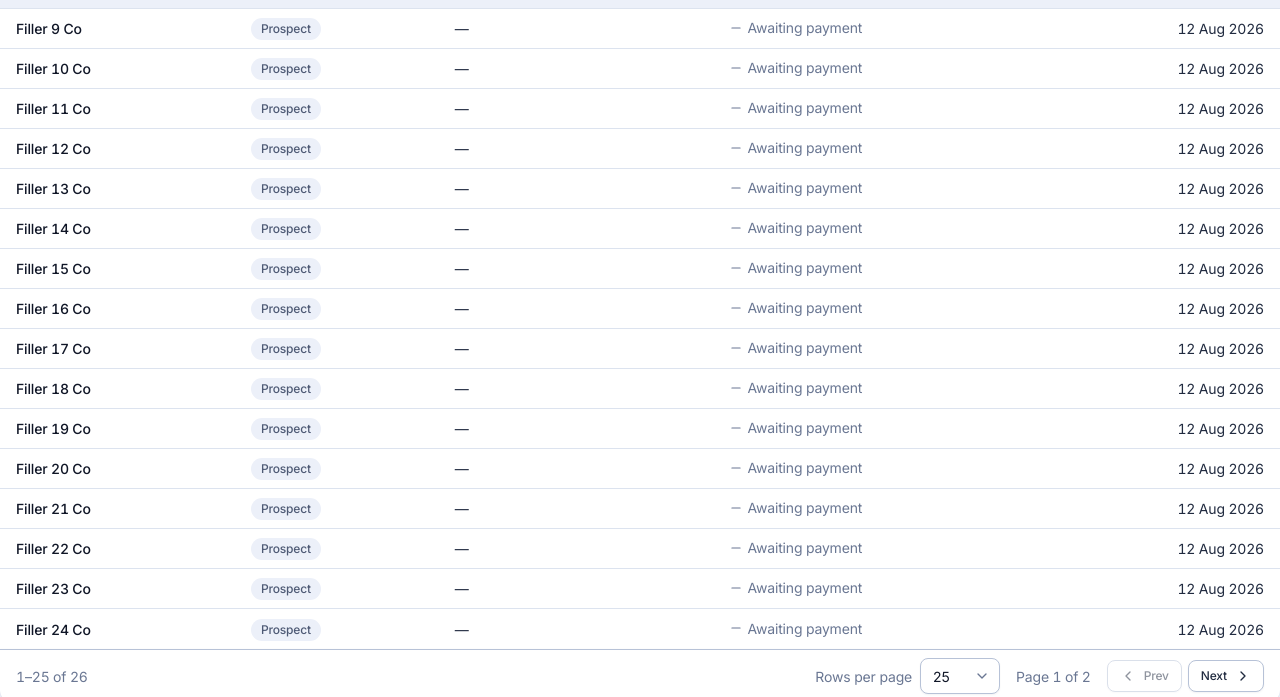
clients list › walks pages with Next/Prev using the returned cursor
(page scrolled)
expect the text "1–25 of 26" is shown: met, box [16,666,88,686]
expect the button with aria-label "Previous page" is disabled: met, box [1107,660,1182,692]
Click the button with aria-label "Next page" at (1226, 676), box [1188,660,1264,692]
(page scrolled)
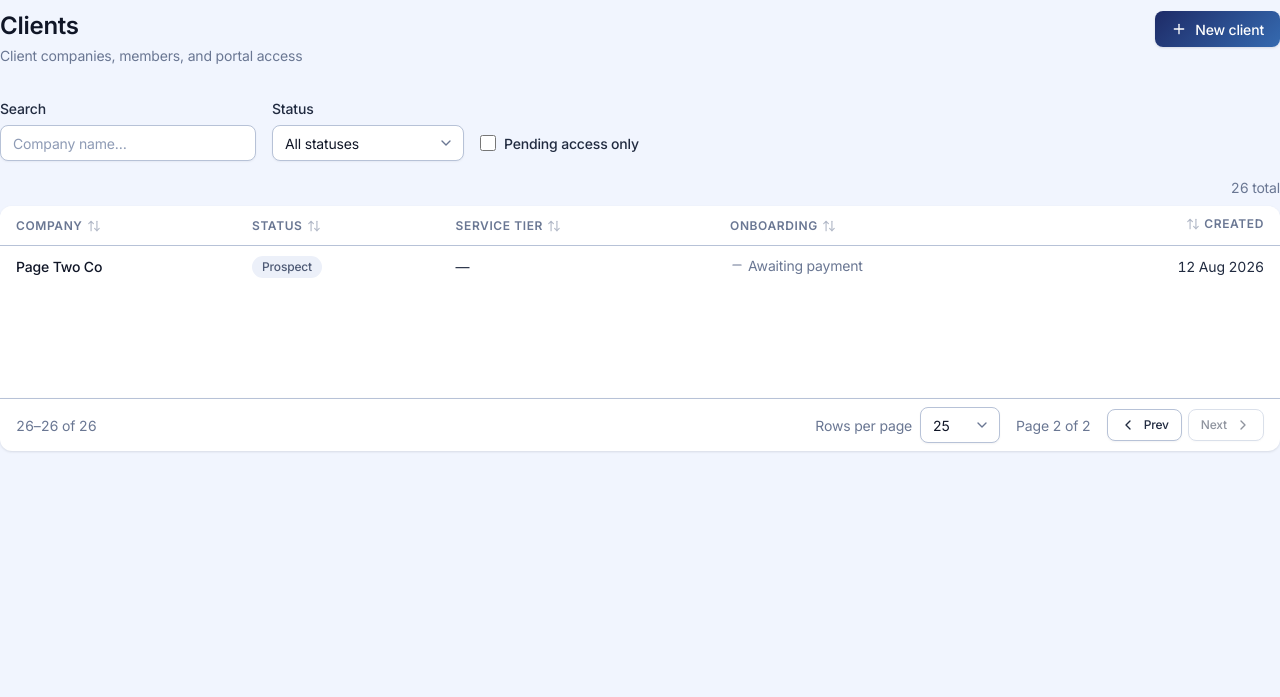
expect the text "Page Two Co" is shown: met, box [16,258,102,274]
expect the text "26–26 of 26" is shown: met, box [16,414,97,436]
expect the text "Page 2 of 2" is shown: met, box [1016,414,1091,436]
# Prev pops the cursor stack and returns to the un-cursored page.
Click the button with aria-label "Previous page" at (1144, 425), box [1107,409,1182,441]
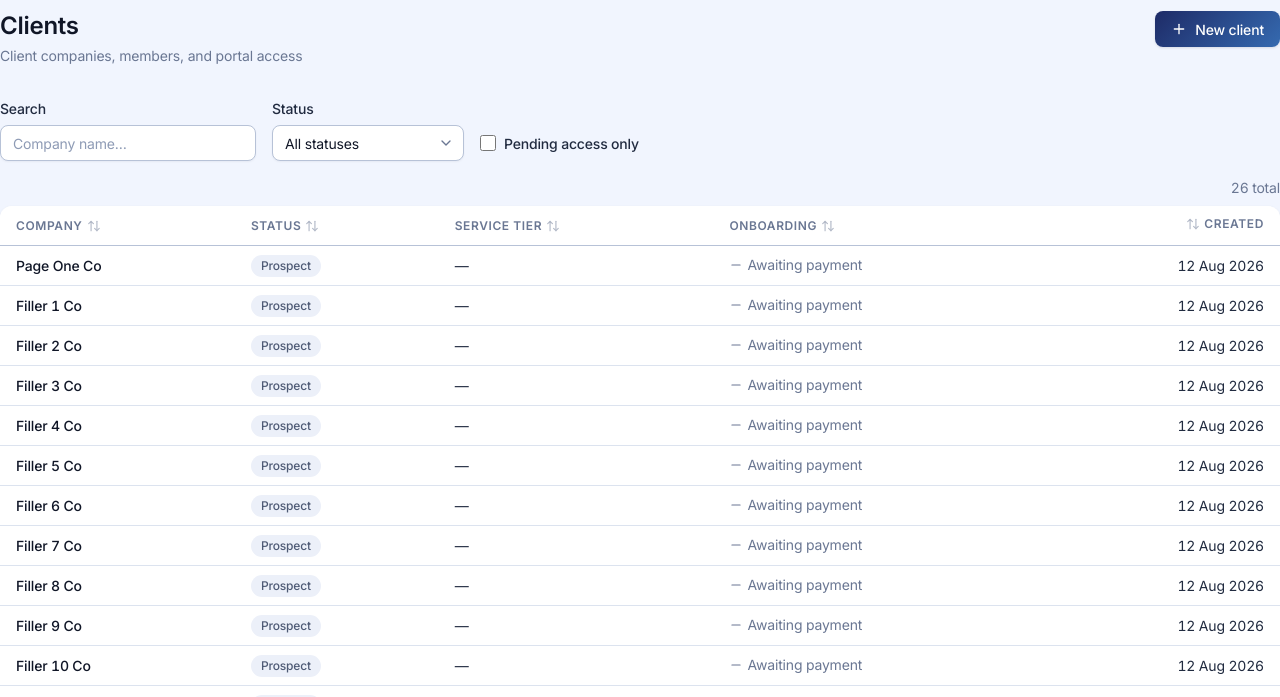
expect the text "Page One Co" is shown: met, box [16,257,102,274]
expect the text "Page Two Co" is gone: met
